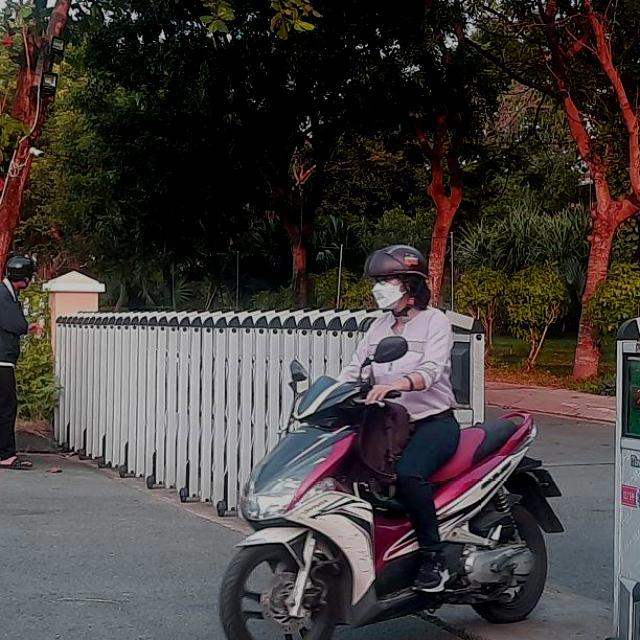Helmet: (364, 238, 430, 316)
